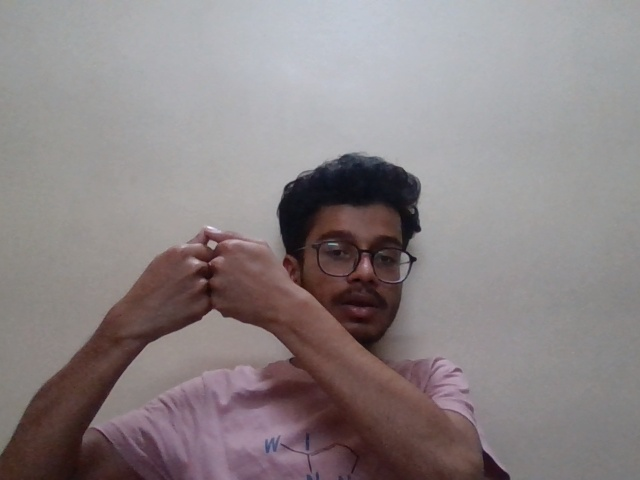sorry: (115, 216, 316, 331)
